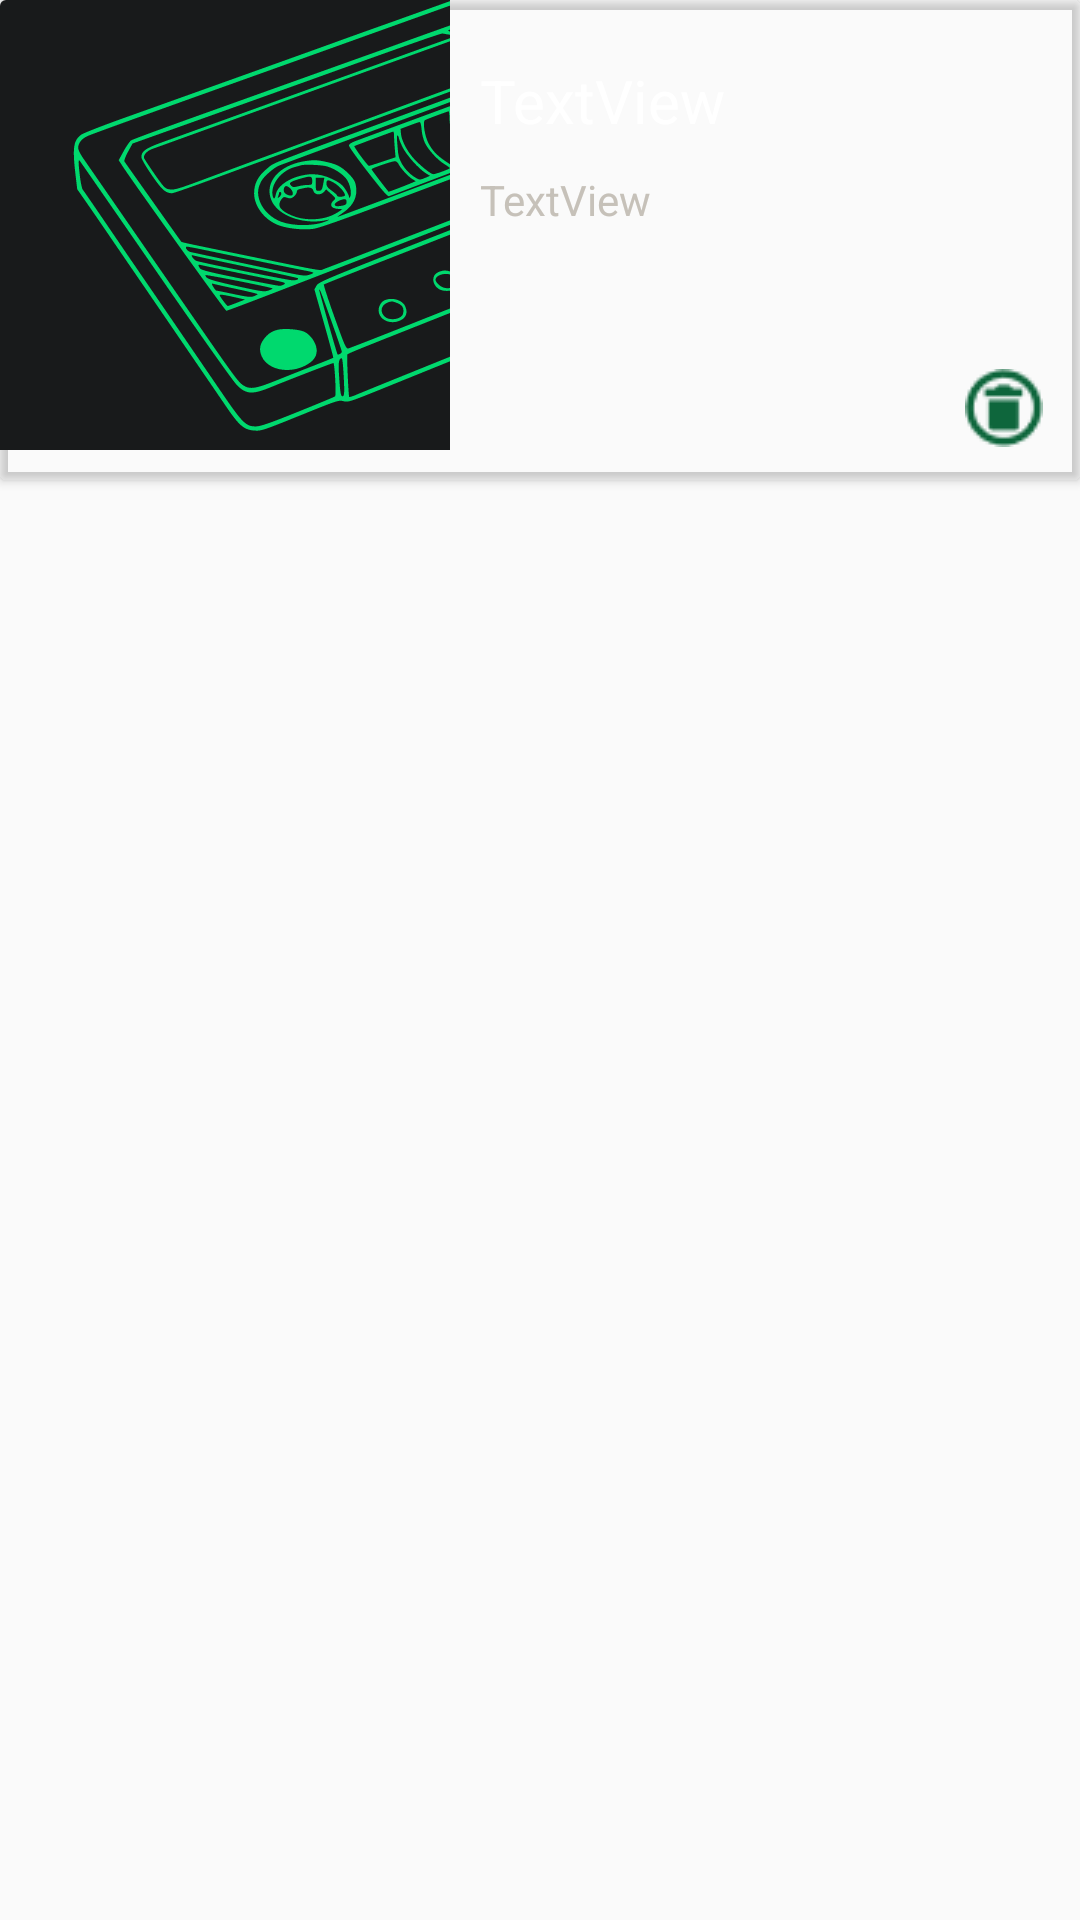

Point at icon controls on the screen. Image size 1080w x 1920h, points as [x,y].
bin: [1004,408]
